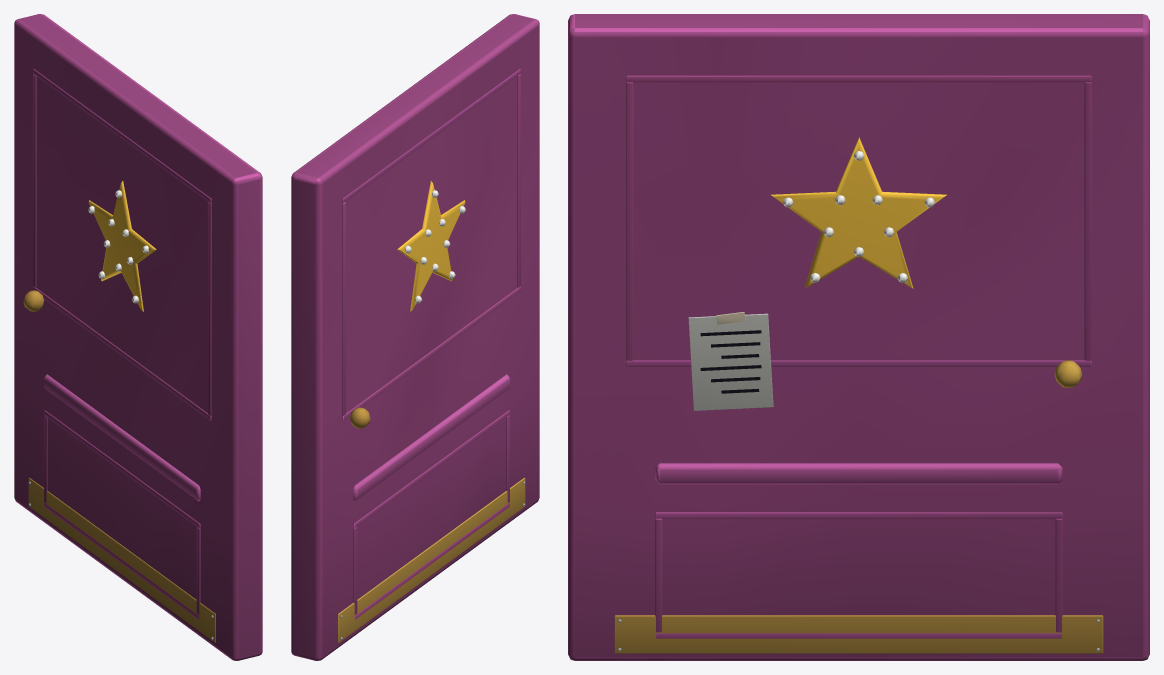
The model's file is SM_Door_Wardrobe_Panel.fbx.
3 views of the same model, side by side, from view 1: azimuth 30°, elevation 25°; view 2: azimuth 150°, elevation 25°; view 3: azimuth 270°, elevation 25° (orthographic). The views are drawn at different scales.
Parts seen in each view (by area): view 1: SM_Door_Wardrobe_Panel; view 2: SM_Door_Wardrobe_Panel; view 3: SM_Door_Wardrobe_Panel.
Boxes of the visible parts, x1,y1,x2,y2 form: SM_Door_Wardrobe_Panel: [14, 14, 262, 660]; SM_Door_Wardrobe_Panel: [291, 14, 539, 660]; SM_Door_Wardrobe_Panel: [568, 14, 1149, 660].
Bounding box in the file's own units: 43.47 × 300 × 250.
